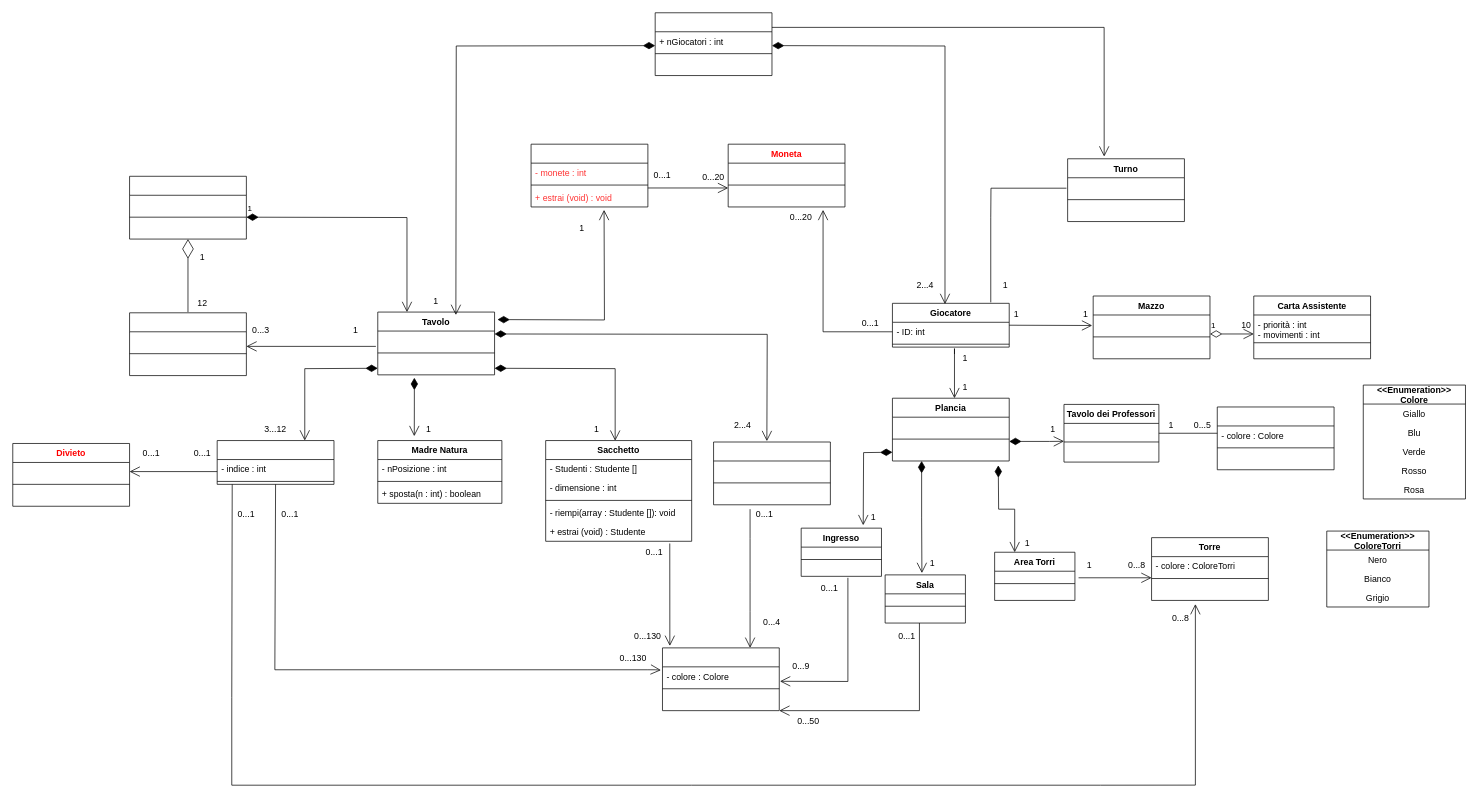
This 1478x809 diagram has some shape labels left out. The shapes that lost their labels are listed below. From the top down, each one's box as (x1, y1, x2, y2) in pixels, then its label:
(654, 12, 772, 76): Match
(530, 143, 648, 207): Riserva Generale
(129, 176, 246, 239): Mazzo Personaggi
(129, 312, 246, 376): Personaggio
(1217, 406, 1334, 470): Professore
(216, 440, 334, 484): Tessera Isola
(713, 441, 830, 505): Tessera Nuvola
(662, 647, 779, 711): Studente
